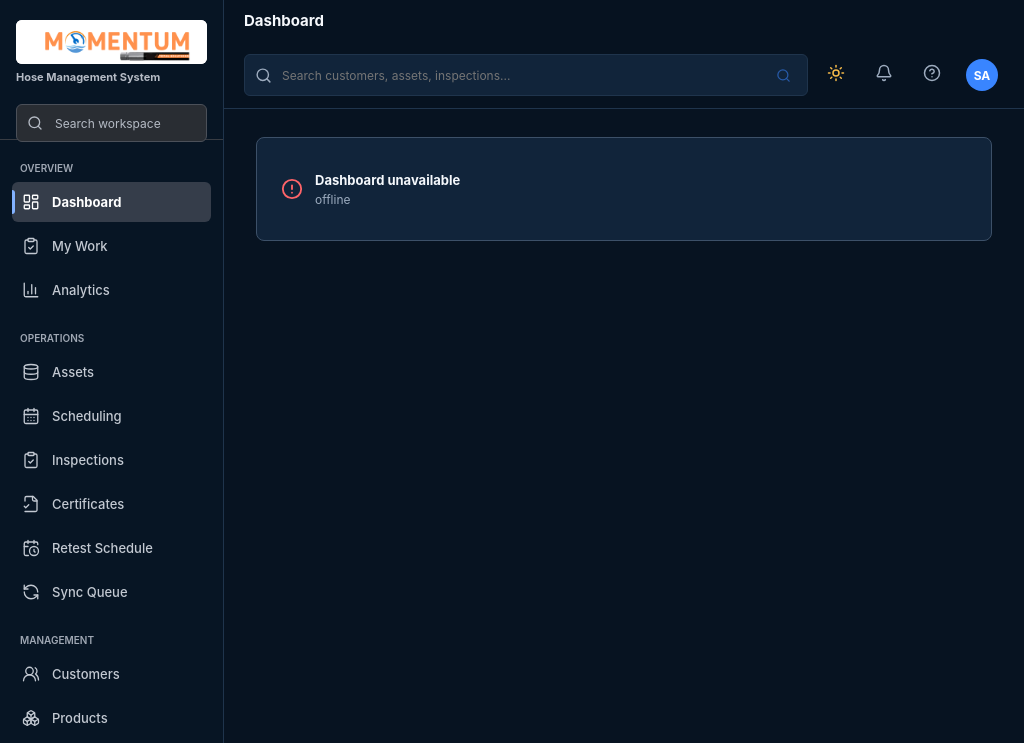
Scenario: App › closes the notification popover from its close control
The width and height of the screenshot is (1024, 743).
Click the button named "Notifications": (884, 75) x1=864 y1=54 x2=904 y2=96
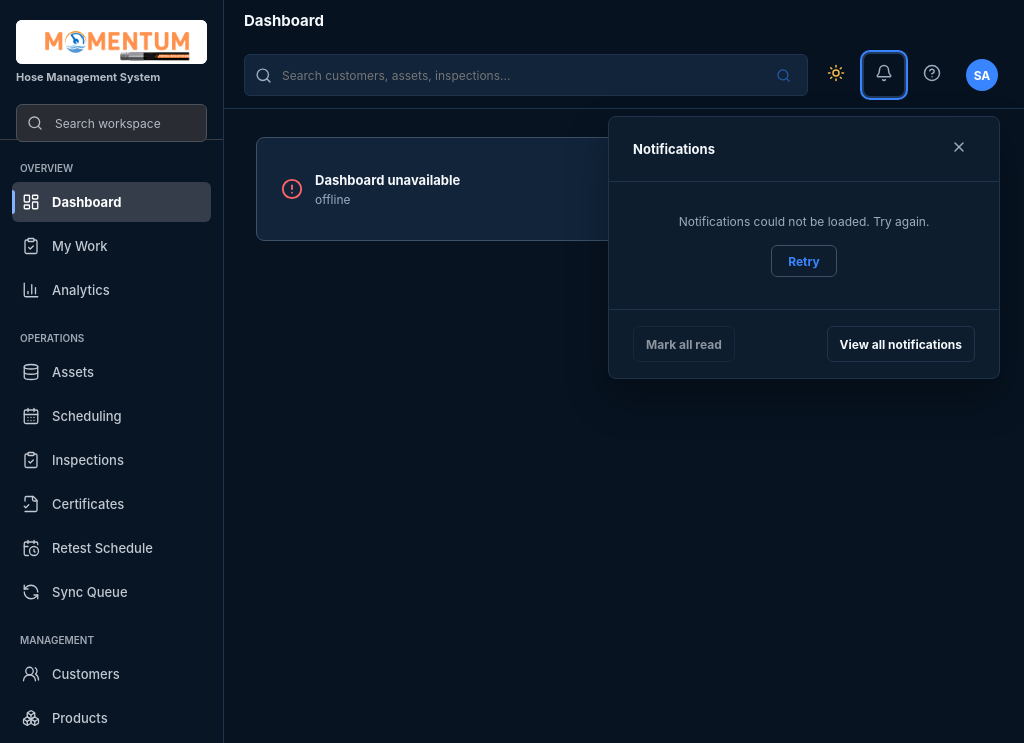
Result: the dialog "Notifications" shows "Notifications could not be loaded" at x1=679 y1=214 x2=929 y2=229
Click the button named "Close notifications": (959, 149) x1=943 y1=133 x2=975 y2=165
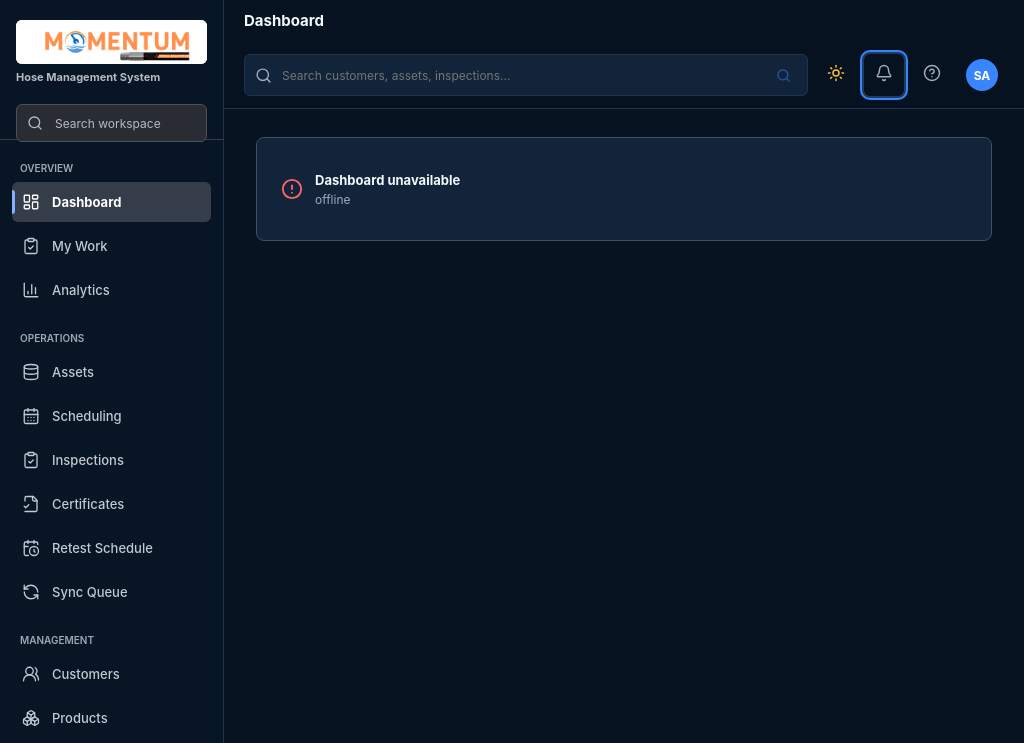
Result: the text "Notifications" is gone
